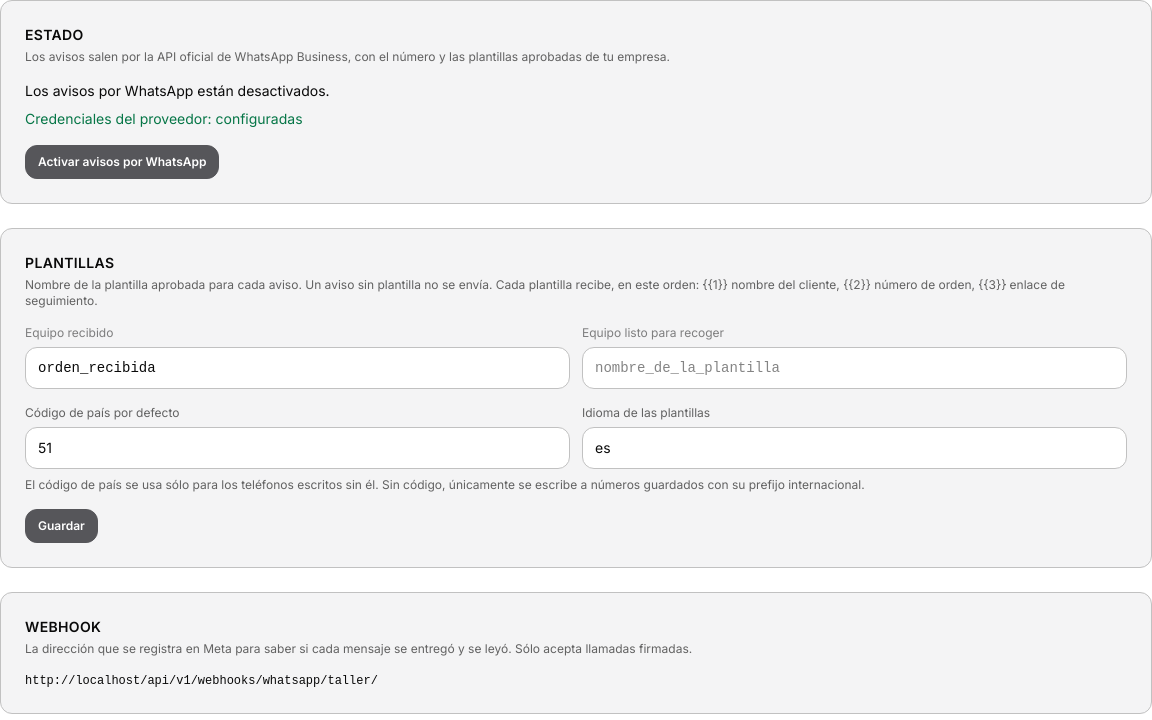
Test: turning it on is its own confirmed step
Click the button "Activar avisos por WhatsApp" at (122, 162), box [25,145,219,179]
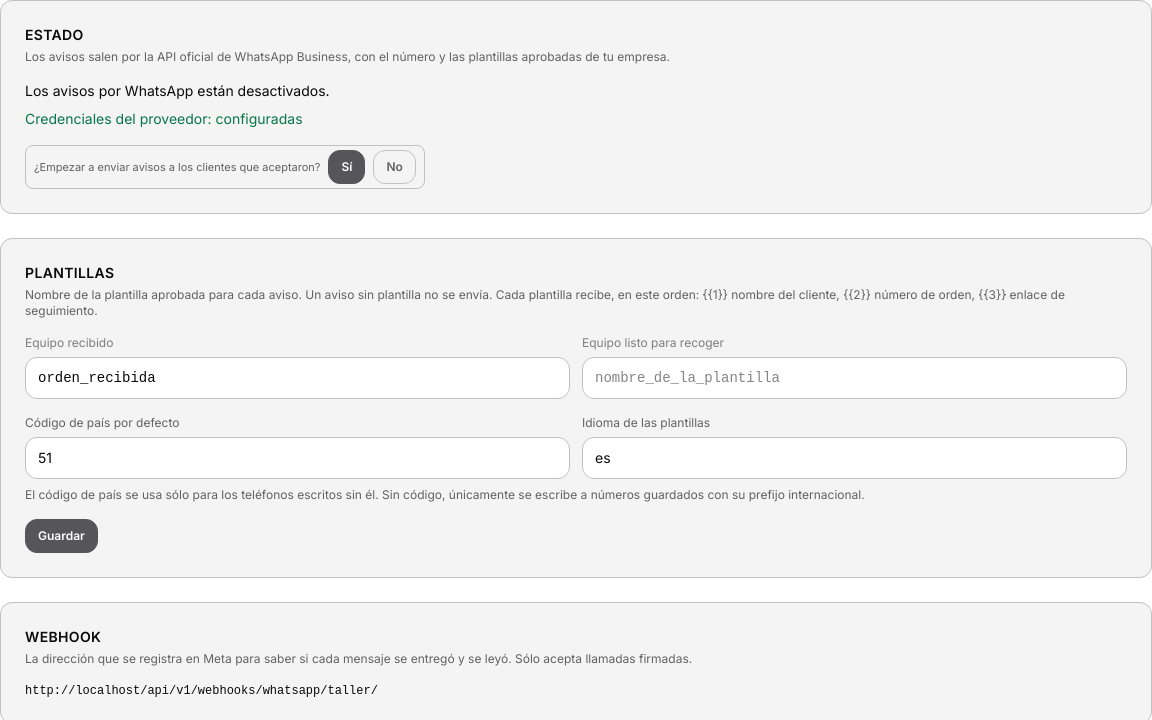
Click the button "Sí" at (347, 167), box [328,150,365,184]
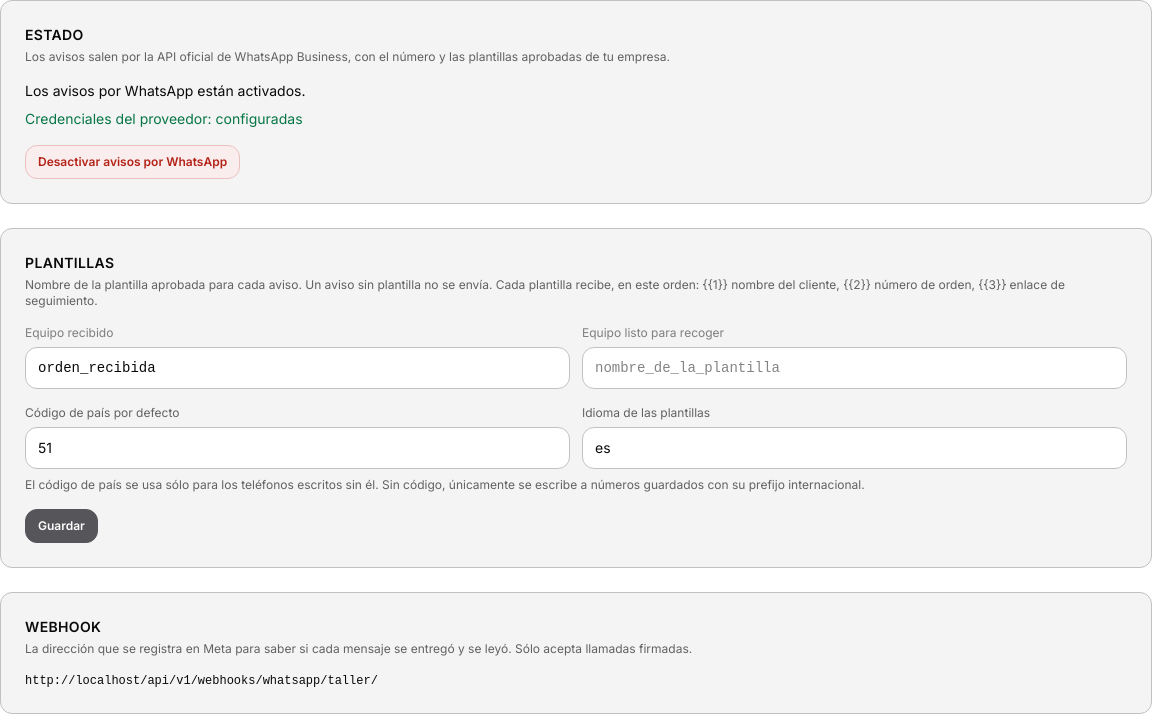
Now the text "Los avisos por WhatsApp están activados." is shown, box [25,82,306,99]
